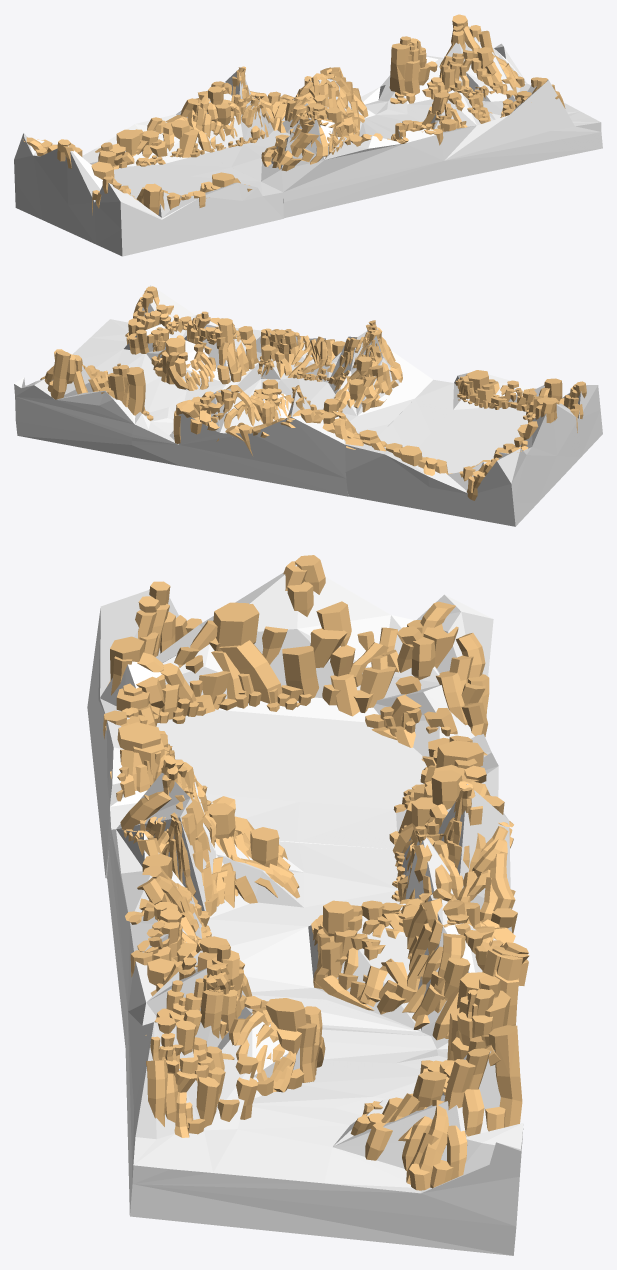
The model's file is group1213442301.001_lev5.glb.
3 views of the same model, one above another, from view 1: azimuth 30°, elevation 25°; view 2: azimuth 150°, elevation 25°; view 3: azimuth 270°, elevation 25° (orthographic). The views are drawn at different scales.
Parts seen in each view (by area): view 1: group1586283693.001, group103738613, group1213442301.001_lev5, group1232652771.001, group693436099, group1173914348, group1915387679.001, group1020127045.001, group576018752, group228751832, group423818086.001, group6855632.001 (+3 smaller); view 2: group1586283693.001, group1213442301.001_lev5, group103738613, group1232652771.001, group576018752, group1517579395, group1173914348, group1020127045.001, group1652834067, group549770677, group1915387679.001, group986819050 (+5 smaller); view 3: group103738613, group1586283693.001, group1213442301.001_lev5, group854510486, group1246920881, group1652834067, group576018752, group549770677, group109473454.001, group1899218596.001, group1670661091.001, group955683139.001 (+16 smaller).
Part boxes in pixels (bbox=[...]): group1586283693.001: bbox=[14, 114, 283, 256]; group103738613: bbox=[358, 27, 602, 180]; group1213442301.001_lev5: bbox=[176, 69, 444, 218]; group1232652771.001: bbox=[262, 124, 324, 164]; group693436099: bbox=[439, 50, 478, 89]; group1173914348: bbox=[389, 43, 409, 94]; group1915387679.001: bbox=[261, 126, 327, 171]; group1020127045.001: bbox=[180, 81, 224, 130]; group576018752: bbox=[391, 120, 443, 145]; group228751832: bbox=[404, 60, 419, 94]; group423818086.001: bbox=[116, 129, 140, 156]; group6855632.001: bbox=[143, 183, 161, 214]; group1586283693.001: bbox=[345, 373, 602, 526]; group1213442301.001_lev5: bbox=[178, 331, 432, 496]; group103738613: bbox=[14, 285, 261, 466]; group1232652771.001: bbox=[363, 334, 401, 401]; group576018752: bbox=[257, 328, 297, 378]; group1517579395: bbox=[185, 351, 216, 390]; group1173914348: bbox=[126, 367, 145, 415]; group1020127045.001: bbox=[300, 409, 357, 441]; group1652834067: bbox=[50, 350, 70, 399]; group549770677: bbox=[187, 320, 222, 354]; group1915387679.001: bbox=[361, 337, 402, 412]; group986819050: bbox=[146, 327, 169, 351]; group103738613: bbox=[125, 950, 523, 1255]; group1586283693.001: bbox=[87, 564, 498, 878]; group1213442301.001_lev5: bbox=[107, 773, 511, 1047]; group854510486: bbox=[229, 1008, 295, 1092]; group1246920881: bbox=[318, 900, 401, 977]; group1652834067: bbox=[488, 1025, 522, 1127]; group576018752: bbox=[130, 902, 182, 977]; group549770677: bbox=[200, 960, 246, 1039]; group109473454.001: bbox=[380, 694, 457, 736]; group1899218596.001: bbox=[213, 602, 259, 651]; group1670661091.001: bbox=[219, 640, 282, 703]; group955683139.001: bbox=[282, 646, 318, 698].
Bounding box in the file's own units: 748 × 171 × 292.
